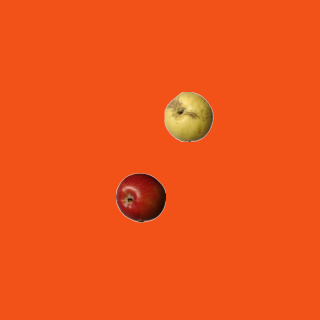Apple Braeburn: (115, 172, 165, 222)
Apple Golden 1: (163, 91, 213, 141)
